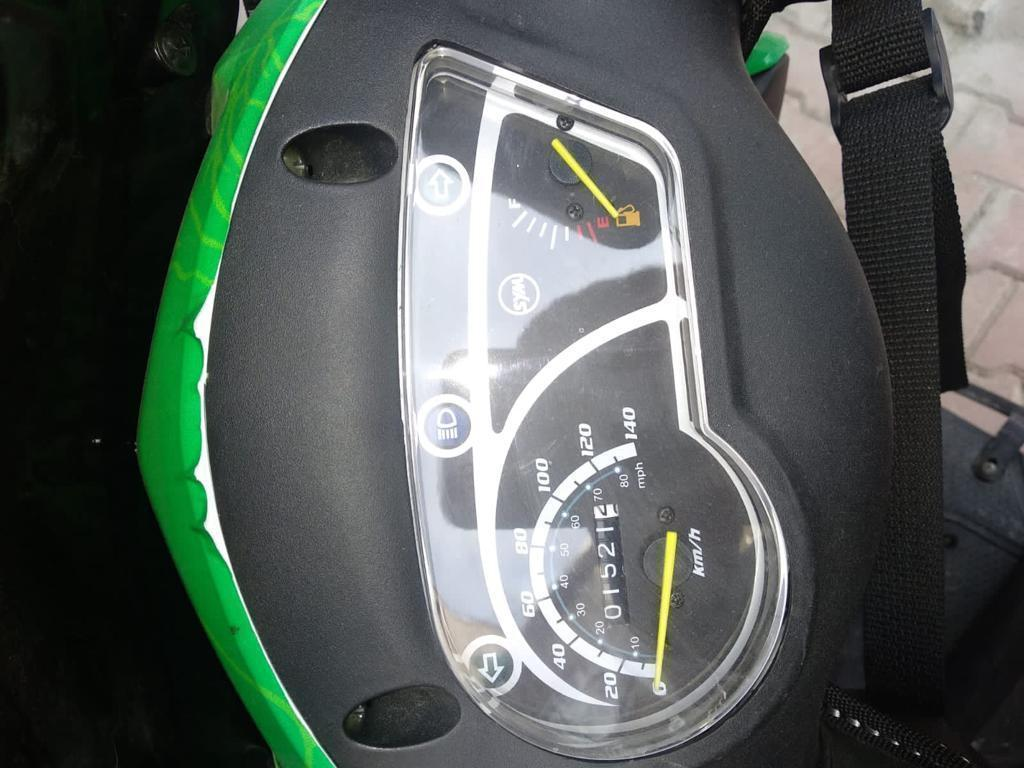0: (602, 603, 623, 619), (593, 620, 605, 628)
1: (592, 524, 615, 534), (600, 586, 622, 596)
2: (595, 540, 616, 559), (590, 503, 608, 518)
5: (597, 562, 619, 580)
odometer: (588, 500, 634, 628)
